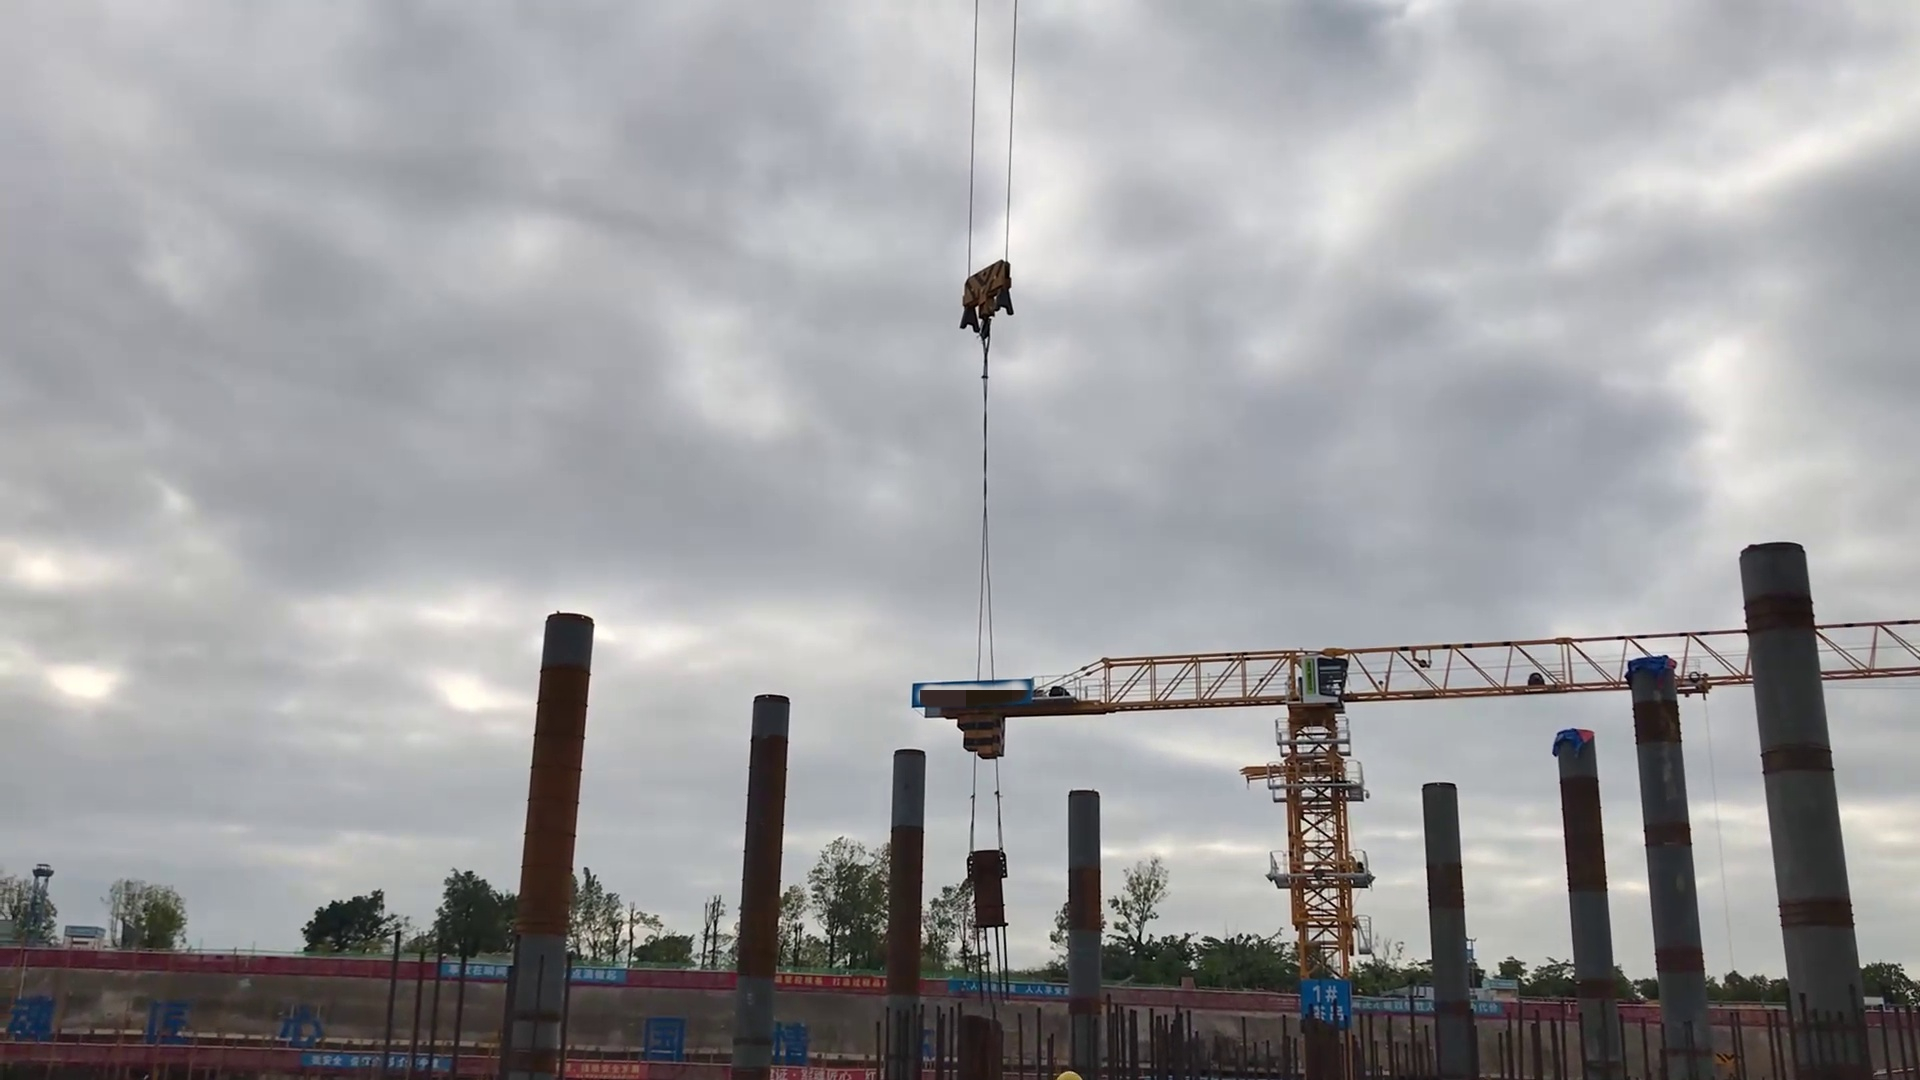helmet: (1050, 1067, 1080, 1080)
hook: (965, 260, 1009, 324)
